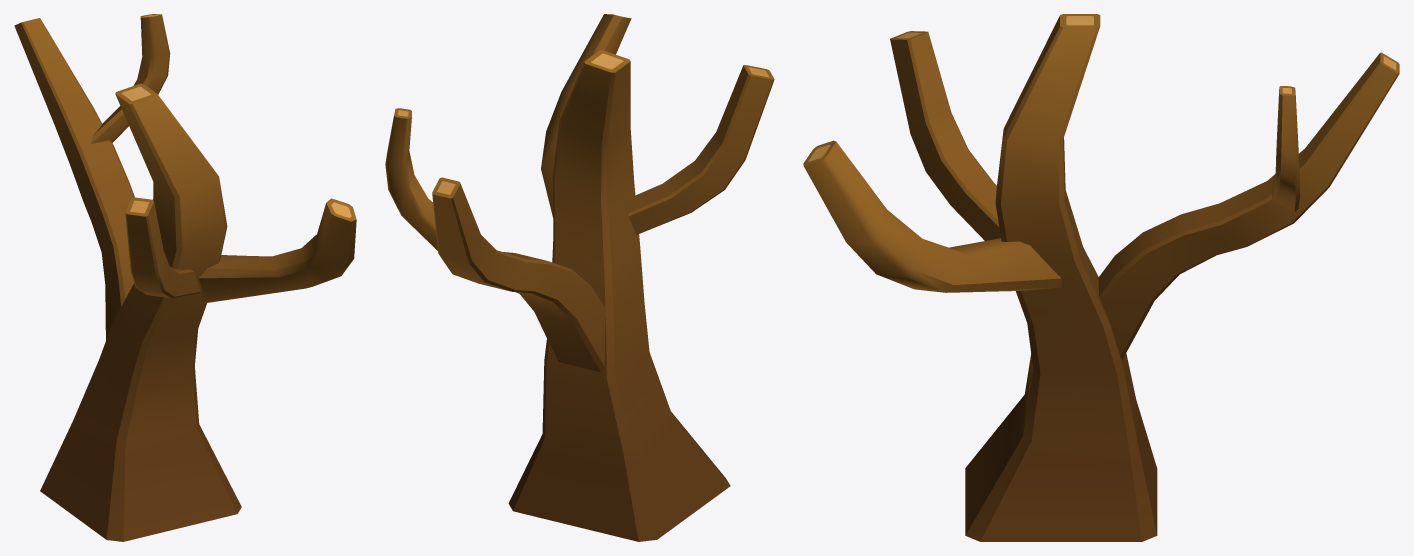
File: Tree_1_A.fbx
3 views of the same model, side by side, from view 1: azimuth 30°, elevation 25°; view 2: azimuth 150°, elevation 25°; view 3: azimuth 270°, elevation 25° (orthographic). The views are drawn at different scales.
Visible parts, largest first — view 1: Tree_1_A; view 2: Tree_1_A; view 3: Tree_1_A.
Boxes of the visible parts, left/top/right/bottom form: Tree_1_A: left=14, top=14, right=356, bottom=541; Tree_1_A: left=385, top=14, right=774, bottom=541; Tree_1_A: left=803, top=14, right=1399, bottom=541.
Size of the model in its own units: 187 by 345 by 385.
